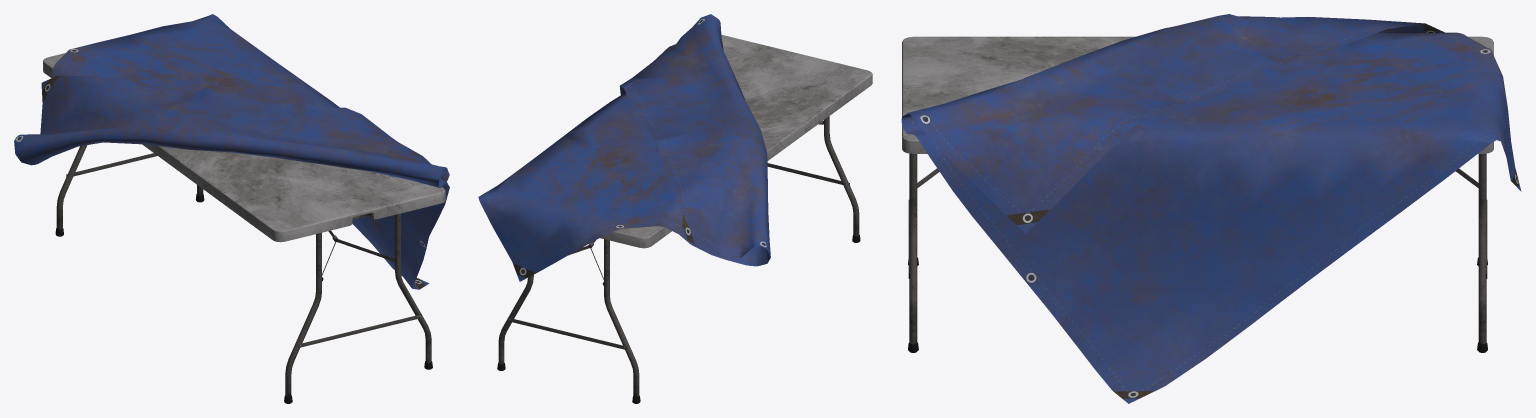
The model's file is table.glb.
3 renders of one model, left to right at view 1: azimuth 30°, elevation 25°; view 2: azimuth 150°, elevation 25°; view 3: azimuth 270°, elevation 25°, orthographic. The views are drawn at different scales.
Parts seen in each view (by area): view 1: Tarp_low, Surface_low, Legs_low, Crossbars_low; view 2: Tarp_low, Surface_low, Legs_low, Crossbars_low; view 3: Tarp_low, Surface_low, Legs_low.
Part boxes in pixels (bbox=[...]): Tarp_low: bbox=[14, 14, 449, 289]; Surface_low: bbox=[43, 53, 445, 242]; Legs_low: bbox=[55, 145, 432, 403]; Crossbars_low: bbox=[66, 153, 421, 347]; Tarp_low: bbox=[478, 14, 770, 281]; Surface_low: bbox=[600, 34, 872, 248]; Legs_low: bbox=[497, 116, 860, 403]; Crossbars_low: bbox=[507, 163, 849, 349]; Tarp_low: bbox=[901, 14, 1521, 403]; Surface_low: bbox=[902, 36, 1493, 153]; Legs_low: bbox=[908, 153, 1487, 352].
Size of the model in its own units: 140 by 82.65 by 189.
Materials: 2 (2 with a texture image).
